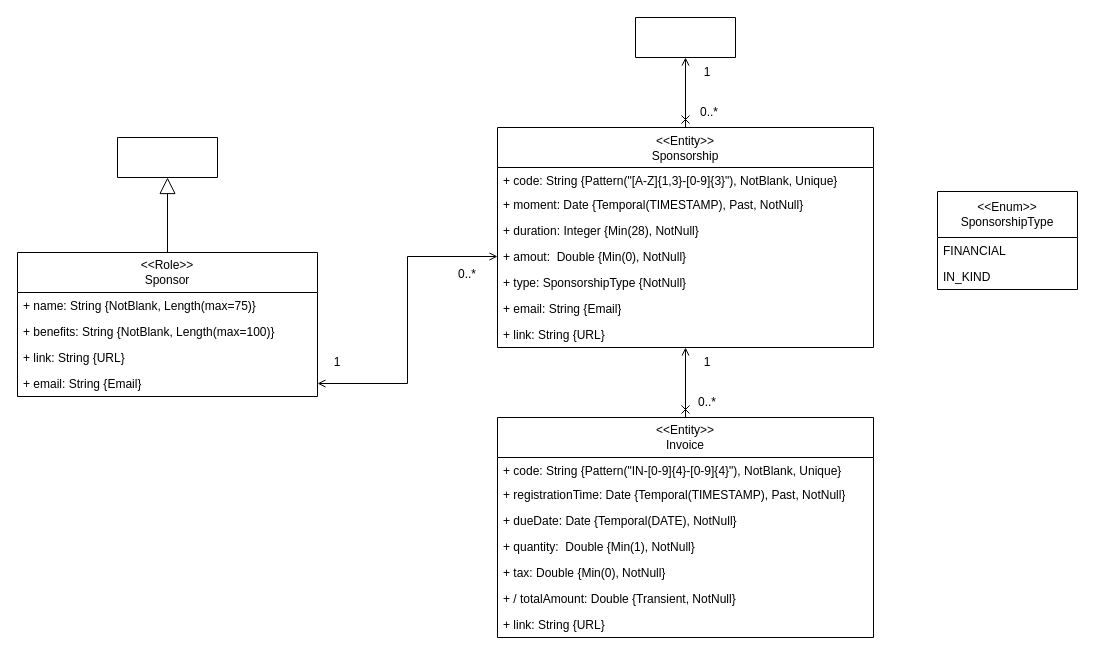
Image size: 1095x658. Some labels were removed from this diagram. The centre of each missing label's shape, as x and y in pixels:
"<<Enitity>> AbstractRole" belongs at [167,157].
"<<Entity>> Project" belongs at [685,37].
